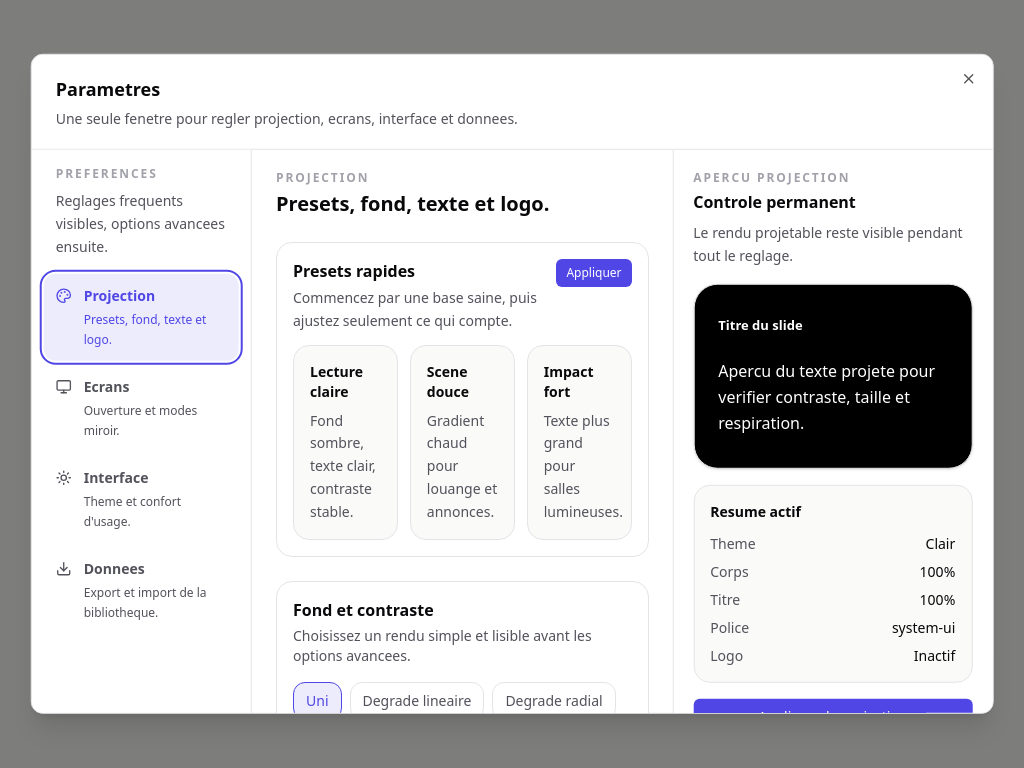
Test: SettingsDialog › uses a side navigation and keeps the projection preview visible across tabs
Expected: the button "Projection Presets, fond, texte et logo." is shown, x1=44 y1=274 x2=239 y2=361
Expected: the text "Apercu projection" is shown, x1=693 y1=169 x2=850 y2=186
Click the button "Ecrans Ouverture et modes miroir.".
click(141, 408)  # box x1=44 y1=365 x2=239 y2=452
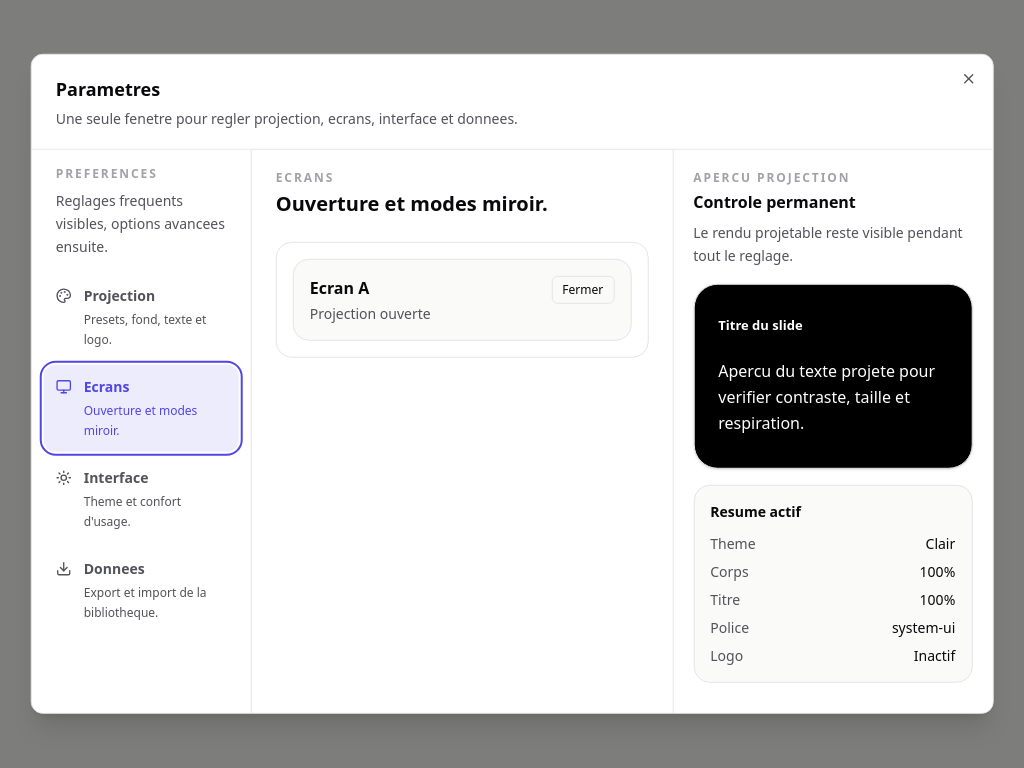
Expected: the text "Apercu projection" is shown, x1=693 y1=169 x2=850 y2=186
Expected: the text "Ecran A" is shown, x1=310 y1=277 x2=369 y2=299
